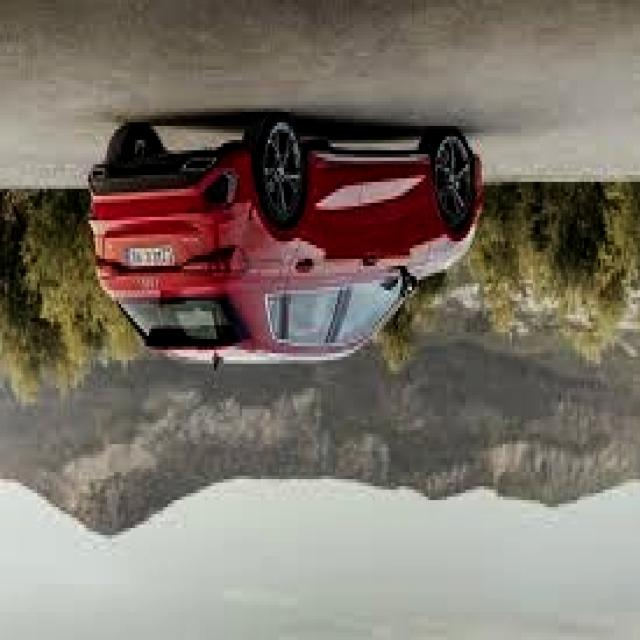maroon: (86, 136, 484, 363)
